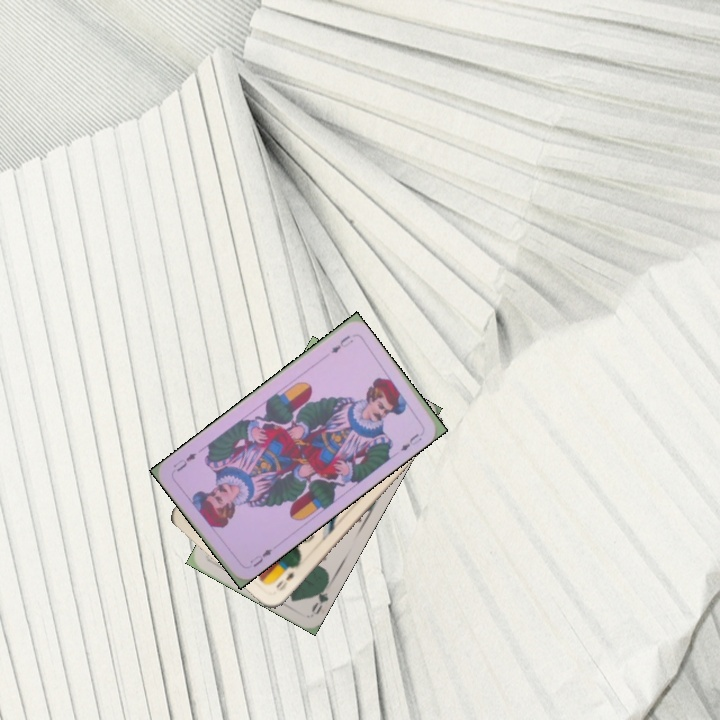EO: (272, 567, 297, 594)
EU: (243, 544, 275, 571), (327, 331, 356, 356)
GO: (307, 578, 331, 617)
